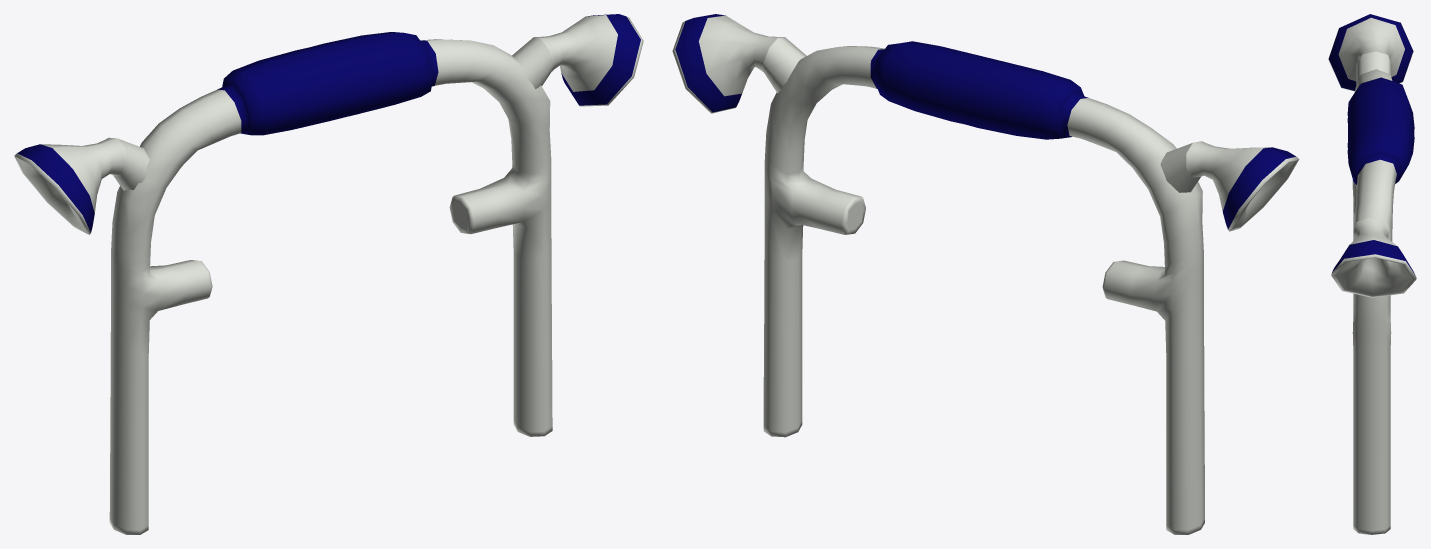
The model's file is Buff.fbx.
3 views of the same model, side by side, from view 1: azimuth 30°, elevation 25°; view 2: azimuth 150°, elevation 25°; view 3: azimuth 270°, elevation 25° (orthographic). The views are drawn at different scales.
Parts seen in each view (by area): view 1: door, sağ fıskiye, sol fıskiye; view 2: door, sağ fıskiye, sol fıskiye; view 3: door, sol fıskiye, sağ fıskiye.
Part boxes in pixels (x1,y1,x2,y2): door: (109,32,552,534); sağ fıskiye: (512,14,643,106); sol fıskiye: (14,137,149,234); door: (763,41,1204,534); sağ fıskiye: (672,14,806,113); sol fıskiye: (1160,141,1299,231); door: (1347,69,1414,534); sol fıskiye: (1328,14,1413,91); sağ fıskiye: (1331,217,1416,297).
Size of the model in its own units: 666 by 446 by 104.
